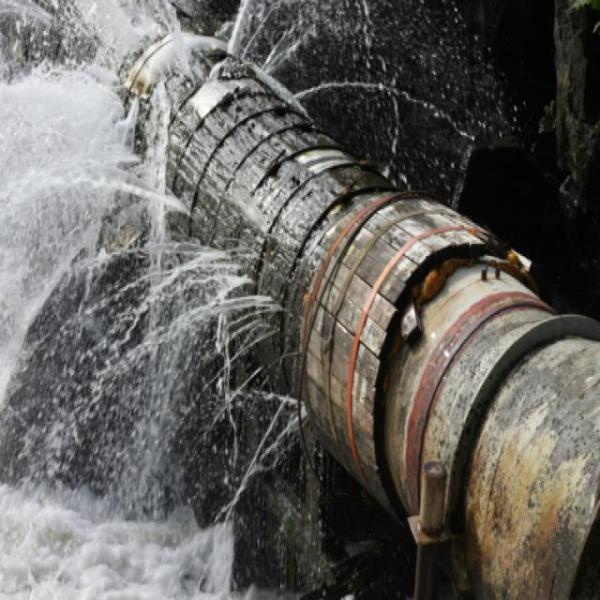water: (138, 101, 386, 361)
